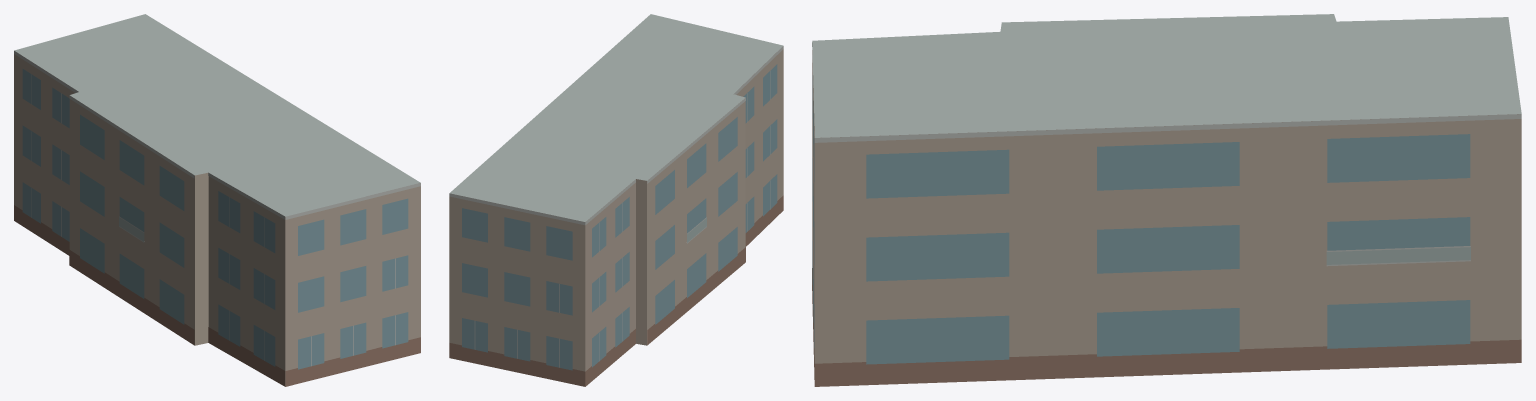
File: survey-upis-32935217.glb
The picture shows the model from 3 angles, left to right: view 1: azimuth 30°, elevation 25°; view 2: azimuth 150°, elevation 25°; view 3: azimuth 270°, elevation 25°; orthographic projection. The views are drawn at different scales.
Parts seen in each view (by area): view 1: survey-upis-32935217.tmp; view 2: survey-upis-32935217.tmp; view 3: survey-upis-32935217.tmp.
Boxes of the visible parts, bbox=[...] form: survey-upis-32935217.tmp: bbox=[14, 14, 420, 386]; survey-upis-32935217.tmp: bbox=[449, 14, 783, 386]; survey-upis-32935217.tmp: bbox=[812, 14, 1521, 386].
Bounding box in the file's own units: 13.18 × 12.32 × 31.85.
